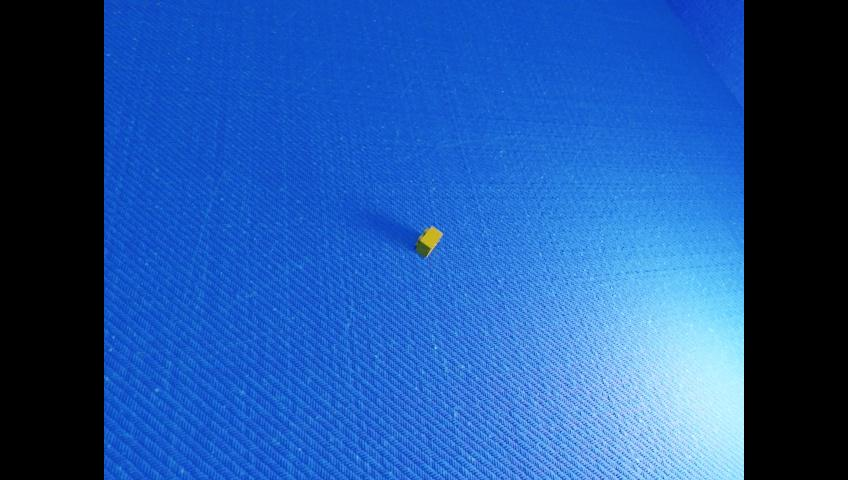2x2_yellow: (415, 225, 441, 257)
